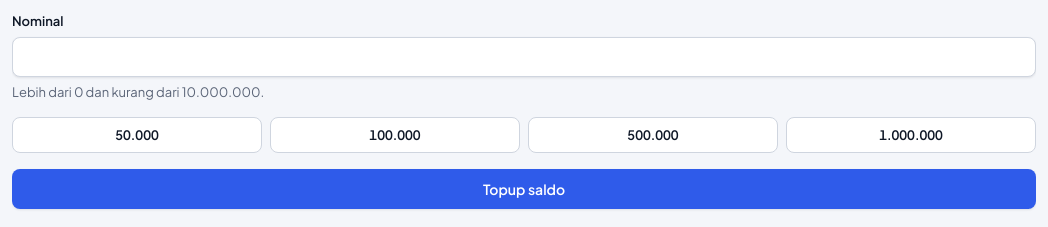
Scenario: TopUpForm › rejects amounts of 10.000.000 or more
The image size is (1048, 227).
Type "10000000" into the field labelled "Nominal" at x=524, y=57, box [12,37,1036,77]
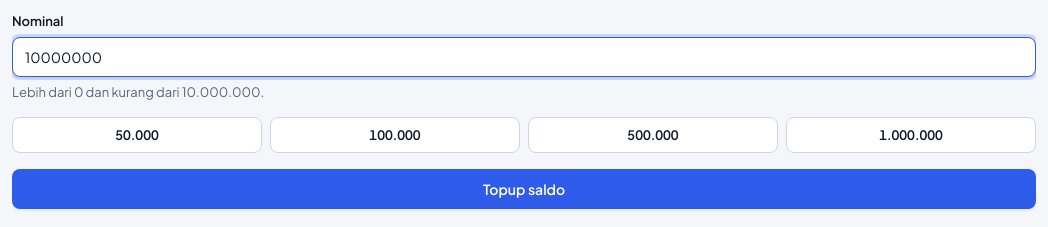
Click the button "Topup saldo" at x=524, y=189, box [12,169,1036,209]
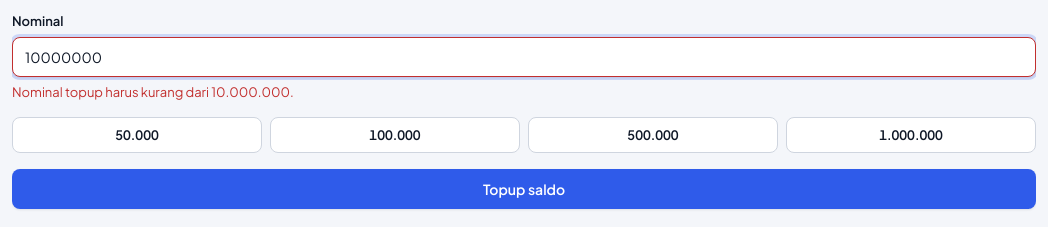
Now the text "Nominal topup harus kurang dari 10.000.000." is shown, box [12,84,294,100]
